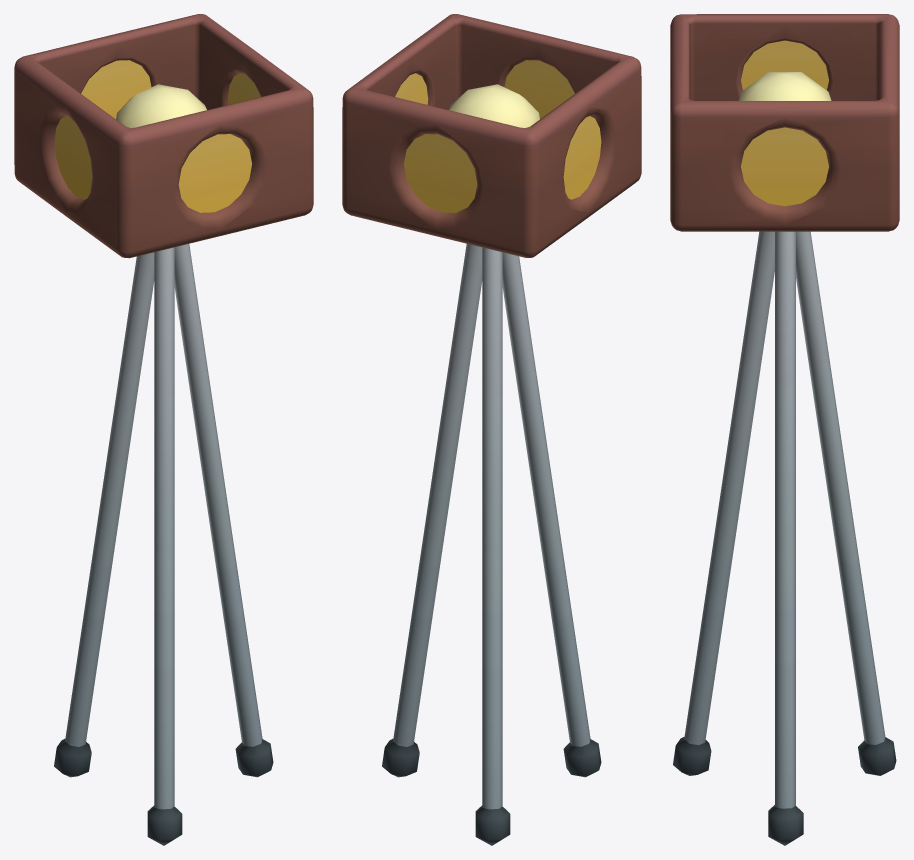
Rendered from Light_04.glb.
3 views of the same model, side by side, from view 1: azimuth 30°, elevation 25°; view 2: azimuth 150°, elevation 25°; view 3: azimuth 270°, elevation 25° (orthographic).
Visible parts, largest first — view 1: Light_04; view 2: Light_04; view 3: Light_04.
Boxes of the visible parts, x1=… form: Light_04: x1=14, y1=14, x2=313, y2=845; Light_04: x1=342, y1=14, x2=641, y2=845; Light_04: x1=670, y1=14, x2=899, y2=845.
Size of the model in its own units: 0.4204 by 1.43 by 0.4.
1 material, 1 textured.
